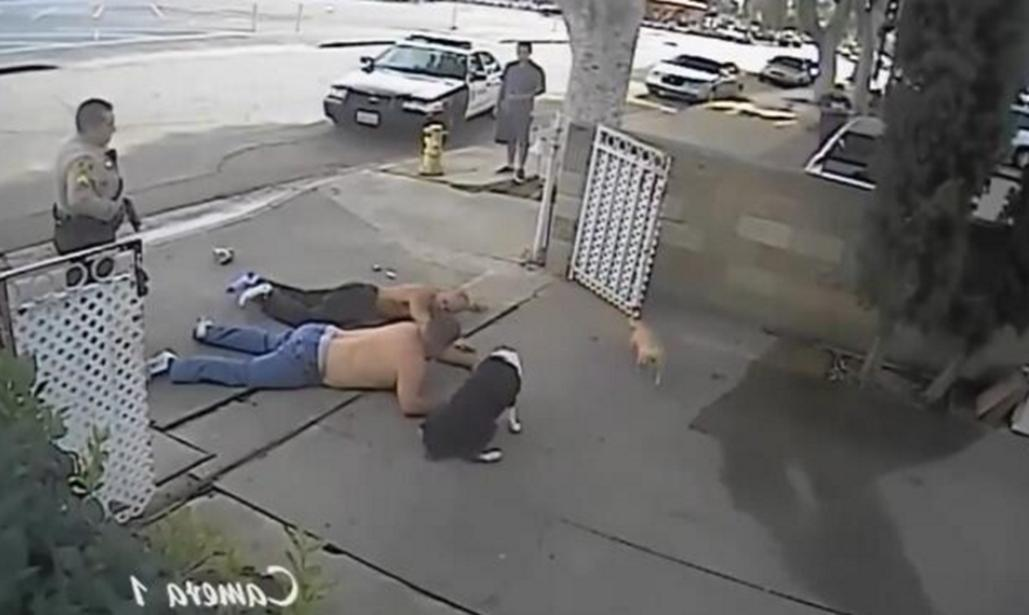Fall-Detected: (206, 254, 473, 340)
